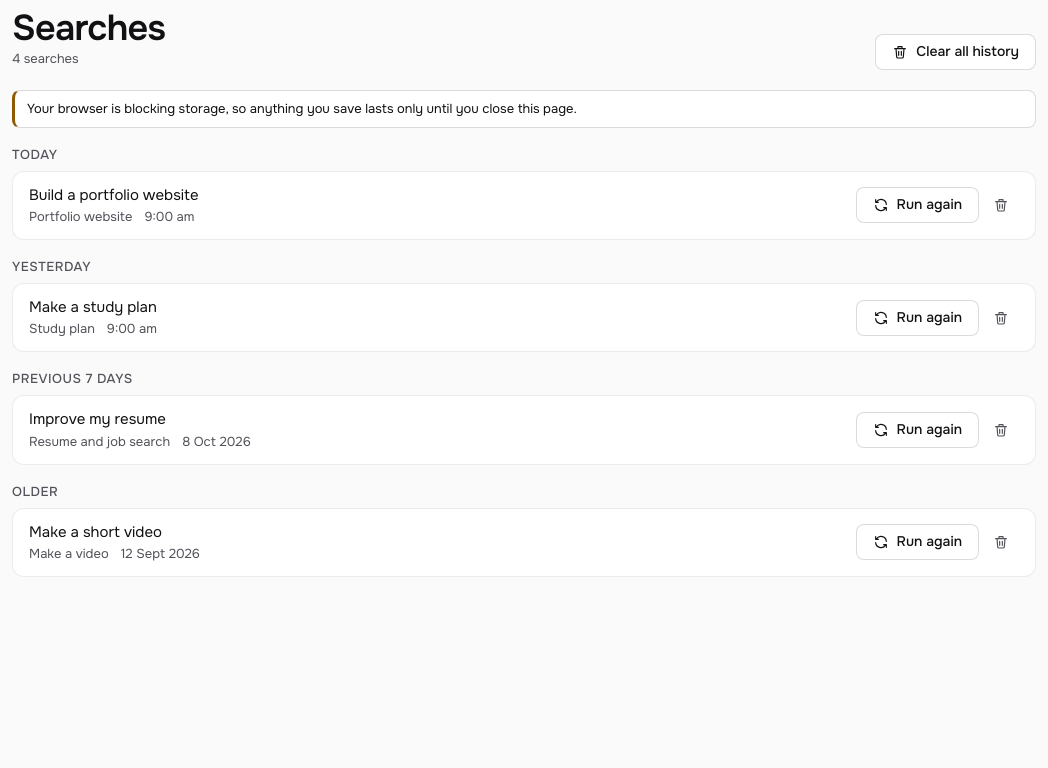
Test case: Searches page › re-runs a search on the home page without putting it in the URL
The width and height of the screenshot is (1048, 768).
Click the button with aria-label "Run again: Make a study plan" at (917,318), box x1=856 y1=300 x2=979 y2=336
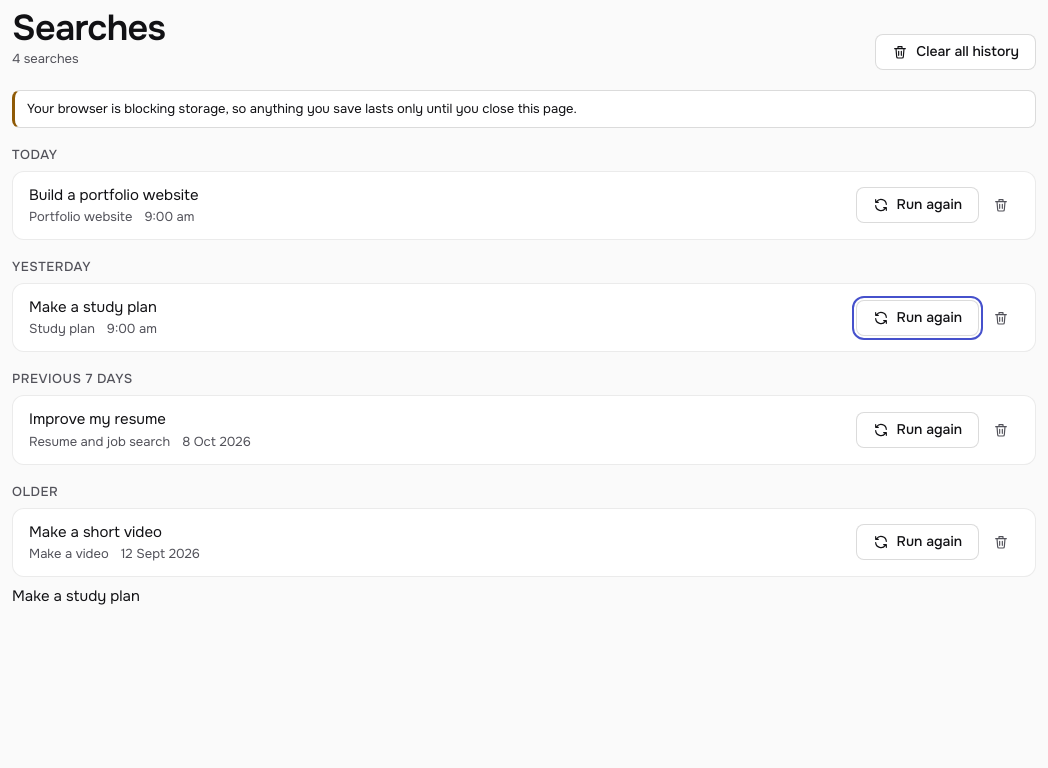
Expected: the text with test id "pending" reads "Make a study plan", x1=12 y1=586 x2=140 y2=606
